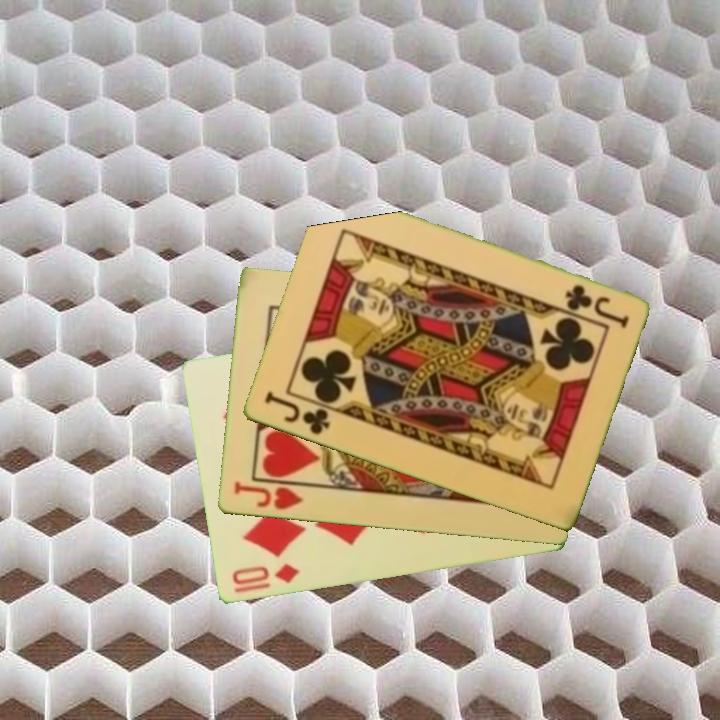10d: (228, 560, 302, 596)
Jc: (260, 388, 333, 438), (561, 281, 632, 330)
Jh: (230, 478, 313, 513)
